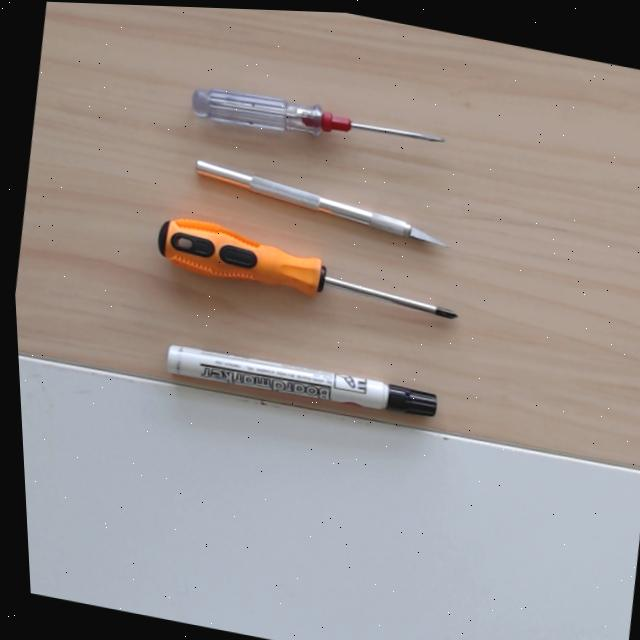Cutter-Kecil: (192, 157, 455, 254)
Marker-Pen: (163, 340, 441, 425)
Obeng-Besar: (152, 210, 463, 347)
Obeng-Kecil: (188, 85, 445, 148)
